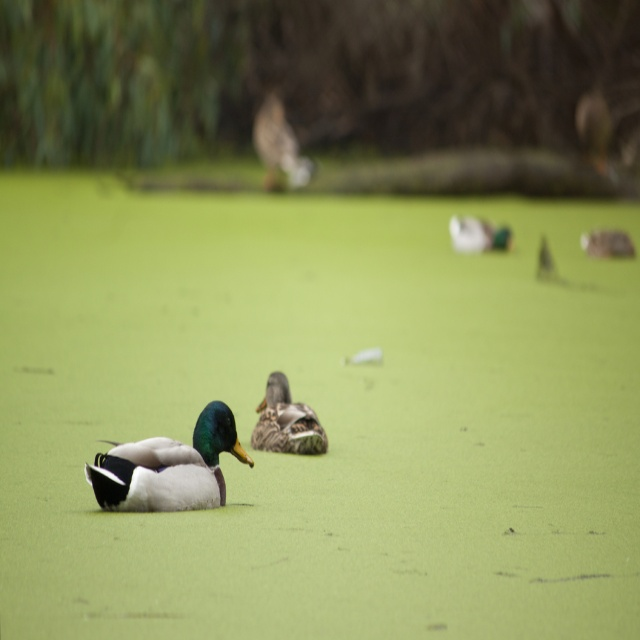Duck: (82, 397, 255, 516), (251, 370, 338, 480)
